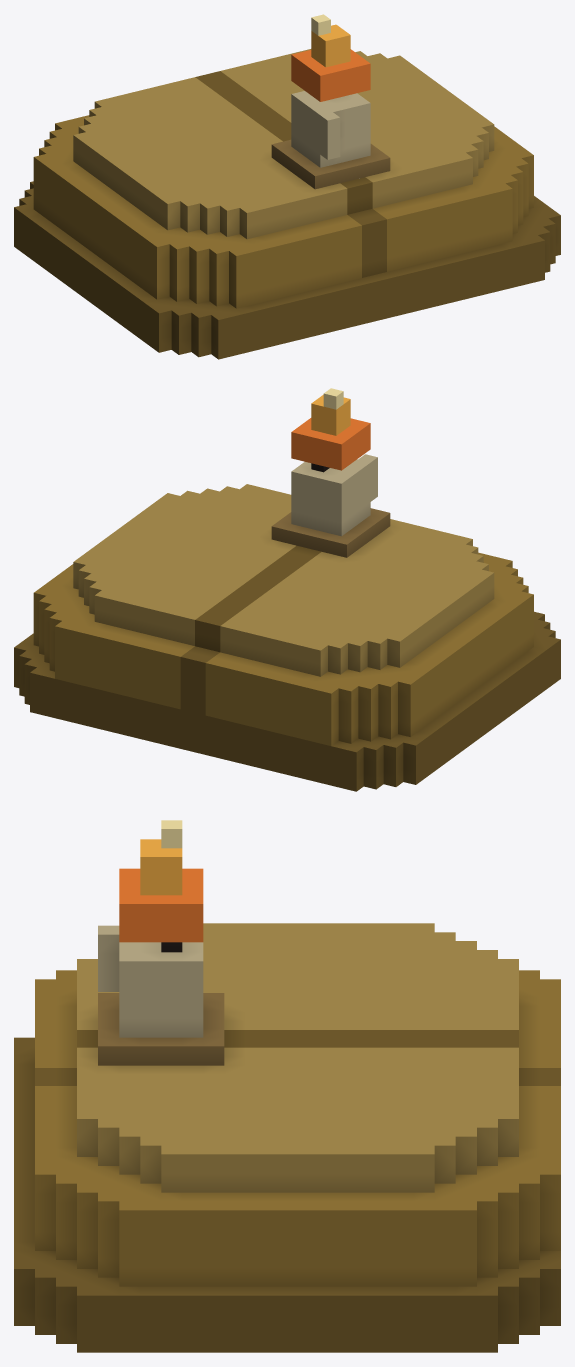
File: hat_miner.glb
3 views of the same model, one above another, from view 1: azimuth 30°, elevation 25°; view 2: azimuth 150°, elevation 25°; view 3: azimuth 270°, elevation 25° (orthographic). The views are drawn at different scales.
Parts seen in each view (by area): view 1: VoxelVisual__hat, flame; view 2: VoxelVisual__hat, flame; view 3: VoxelVisual__hat, flame.
Boxes of the visible parts, left/top/right/bottom form: VoxelVisual__hat: left=14, top=49, right=560, bottom=359; flame: left=291, top=14, right=370, bottom=101; VoxelVisual__hat: left=14, top=454, right=560, bottom=791; flame: left=291, top=388, right=370, bottom=470; VoxelVisual__hat: left=14, top=923, right=560, bottom=1352; flame: left=119, top=820, right=203, bottom=942.
Size of what is drawn, in the model's own units: 2 by 1.25 by 1.62.
